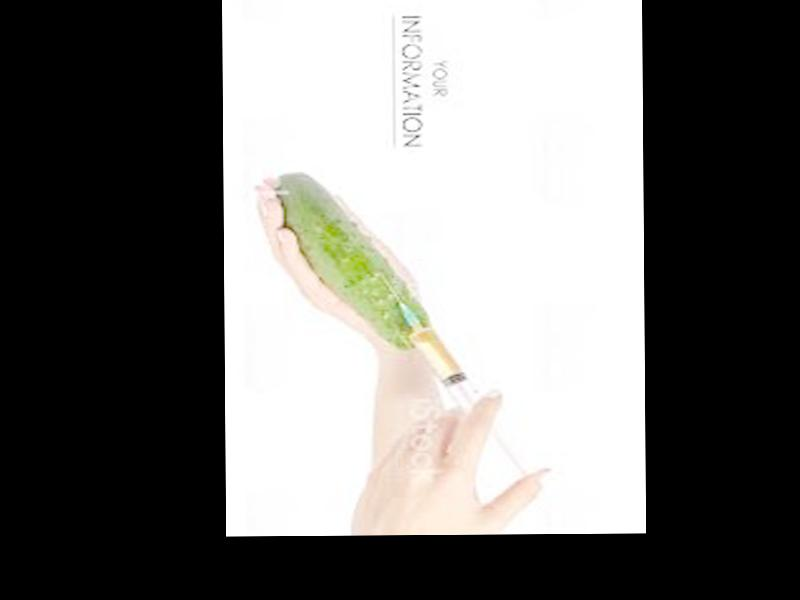Cucumber: (278, 173, 434, 349)
